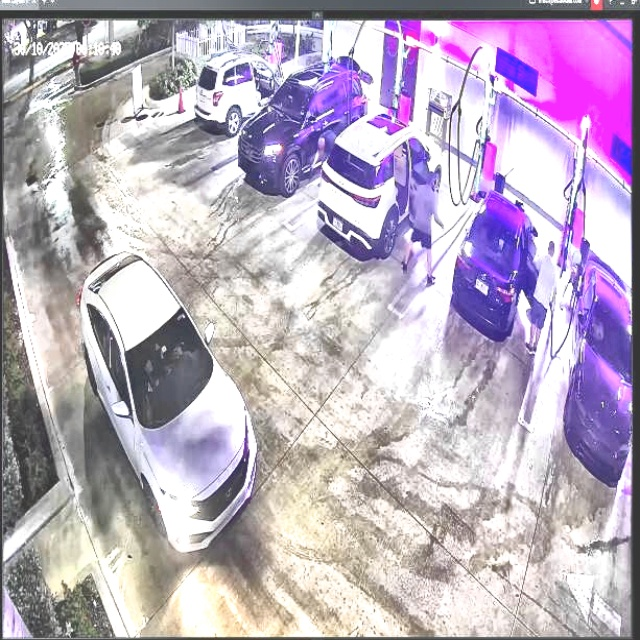Car: (76, 251, 258, 554), (321, 112, 444, 257), (238, 64, 368, 194), (453, 191, 535, 340)
